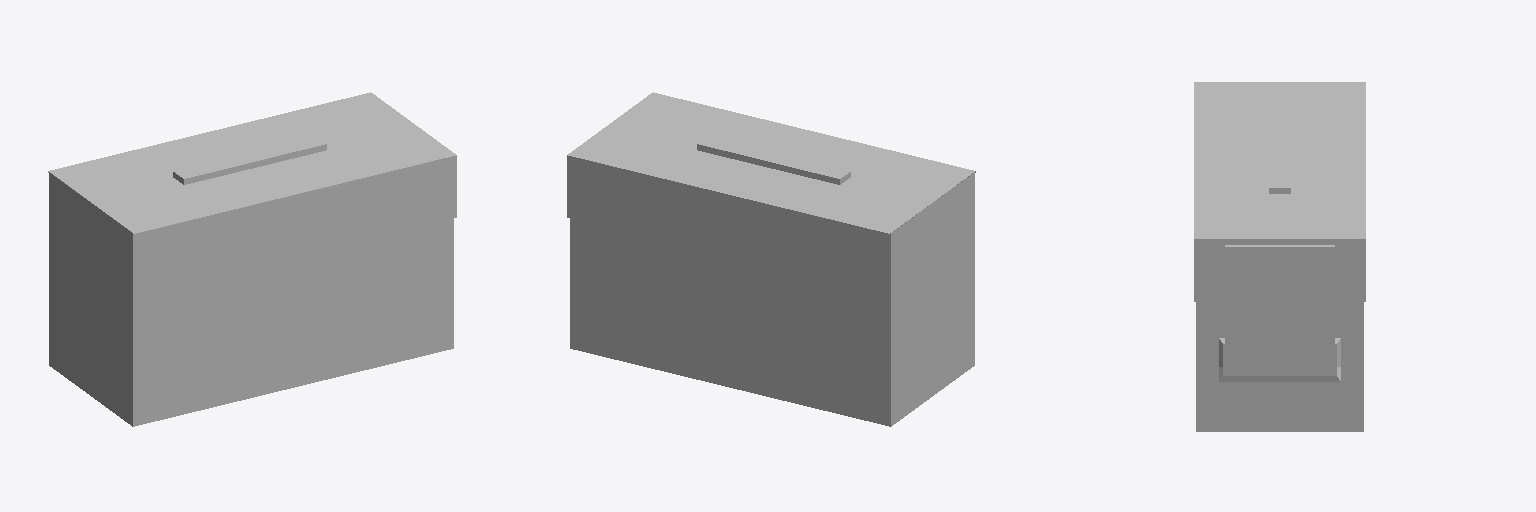
The model's file is large_ammo_box_240.obj.
The picture shows the model from 3 angles: view 1: azimuth 30°, elevation 25°; view 2: azimuth 150°, elevation 25°; view 3: azimuth 270°, elevation 25°; orthographic projection.
Visible parts, largest first — view 1: Cube; view 2: Cube; view 3: Cube.
Boxes of the visible parts, <box> form: Cube: <box>48,92,456,426</box>; Cube: <box>567,92,975,426</box>; Cube: <box>1194,82,1365,431</box>.
Bounding box in the file's own units: 0.9201 × 0.5336 × 0.4153.